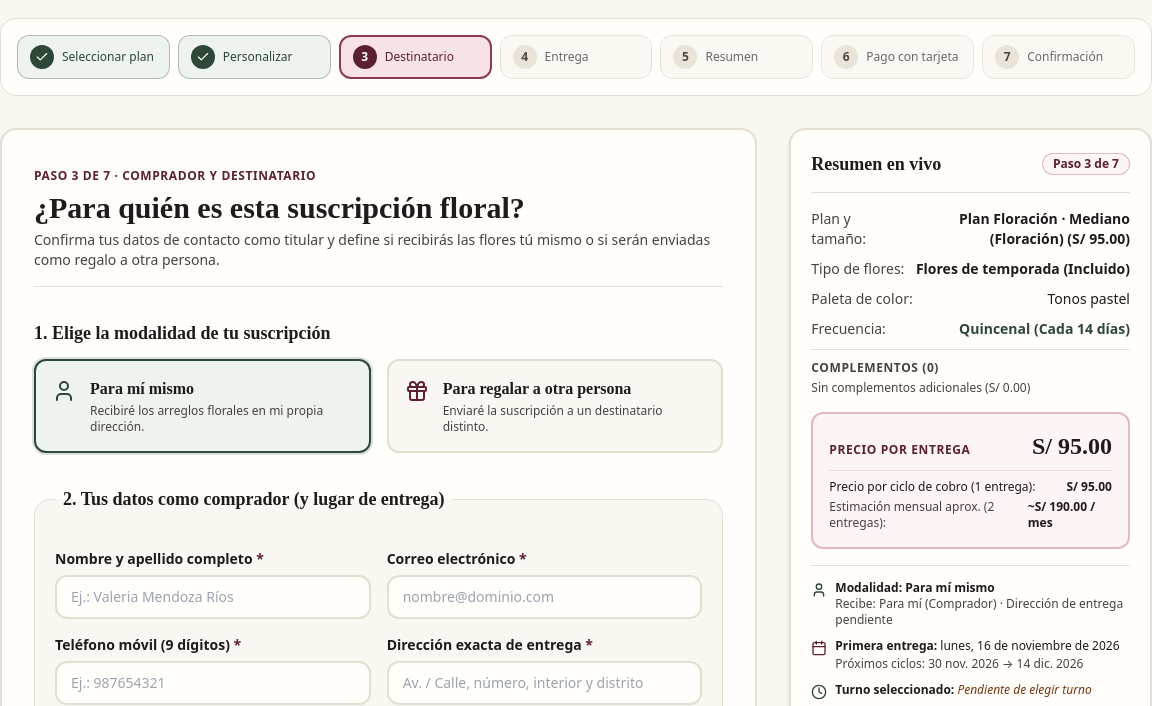
Scenario: Interacción y ccesibilidad (IHM) - El club de las flores › 2. Mapeo condicional: elegir 'Para regalar' muestra el formulario del destinatario con etiquetas accesibles
Click the button "Para regalar a otra persona". click: (555, 406)
box: [387,359,723,453]
(page scrolled)
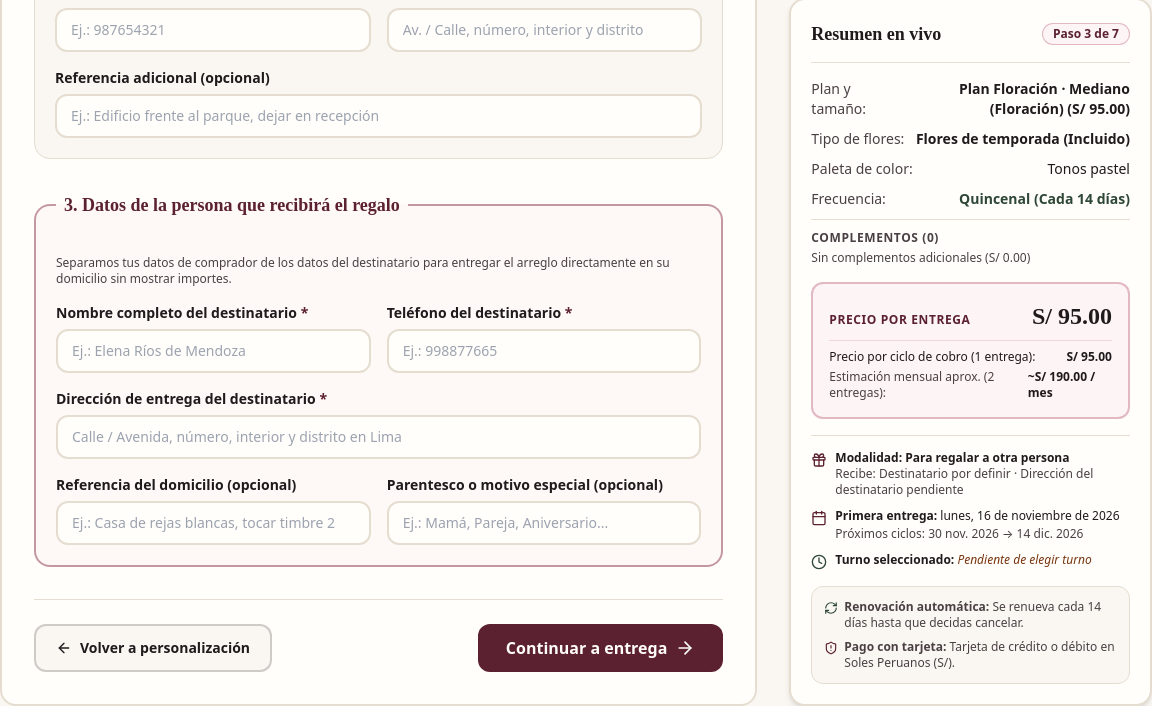
Now the element with test id "recipient-fieldset" is shown, box [34,191,723,567]
Now the field labelled "Nombre completo del destinatario *" is shown, box [56,329,371,373]
